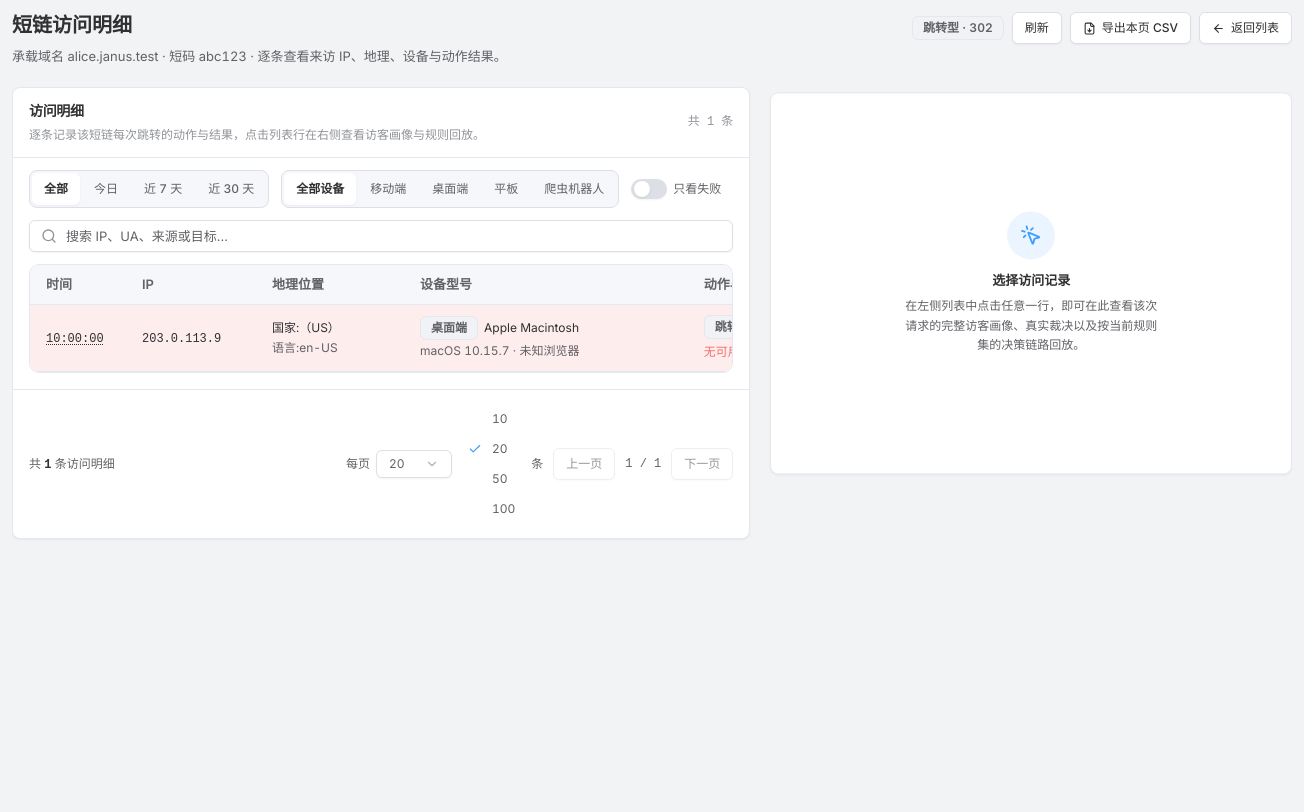
Test case: LinkVisitsView 关键词搜索 › Given 关键词搜索生效, Then 服务端返回的行不再被本地二次过滤
This screenshot has width=1304, height=812.
Type "zzz-not-in-row" into the field named "搜索访问明细" at (381, 236), box [29,220,733,252]
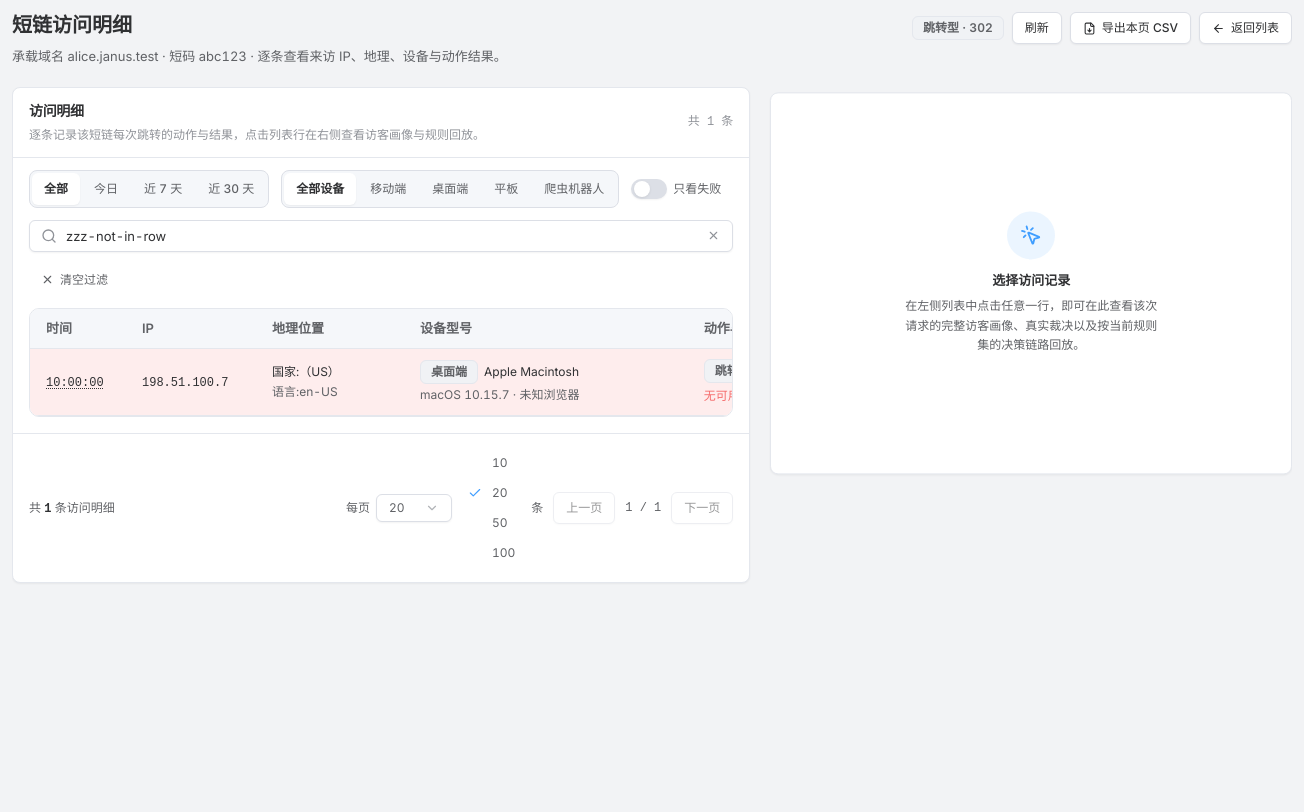
Check: the text "198.51.100.7" is shown, box [142,376,228,390]
